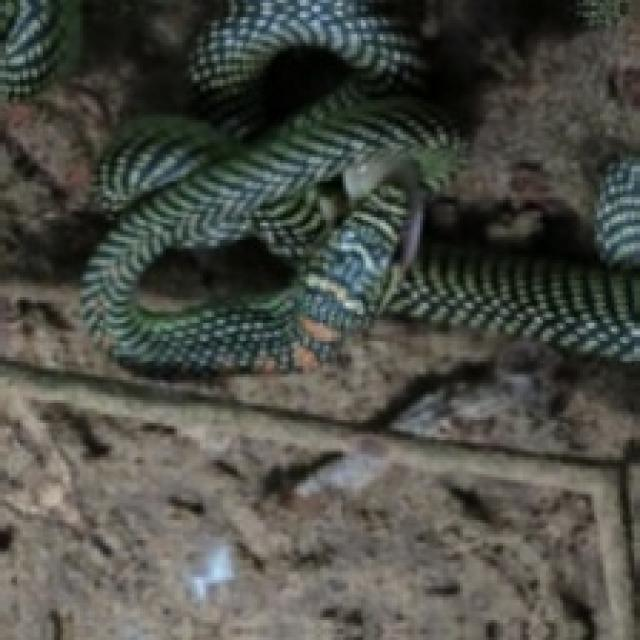paradise tree snake: (83, 0, 637, 371)
